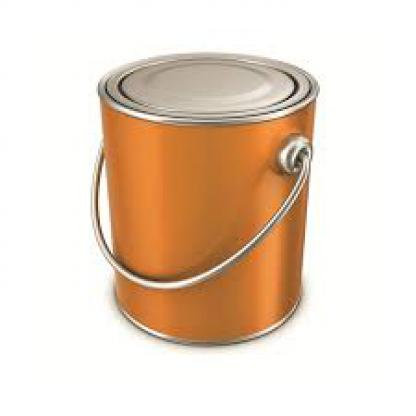Compsot: (91, 52, 318, 344)
